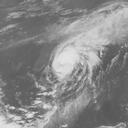cyclone: (48, 42, 89, 81)
